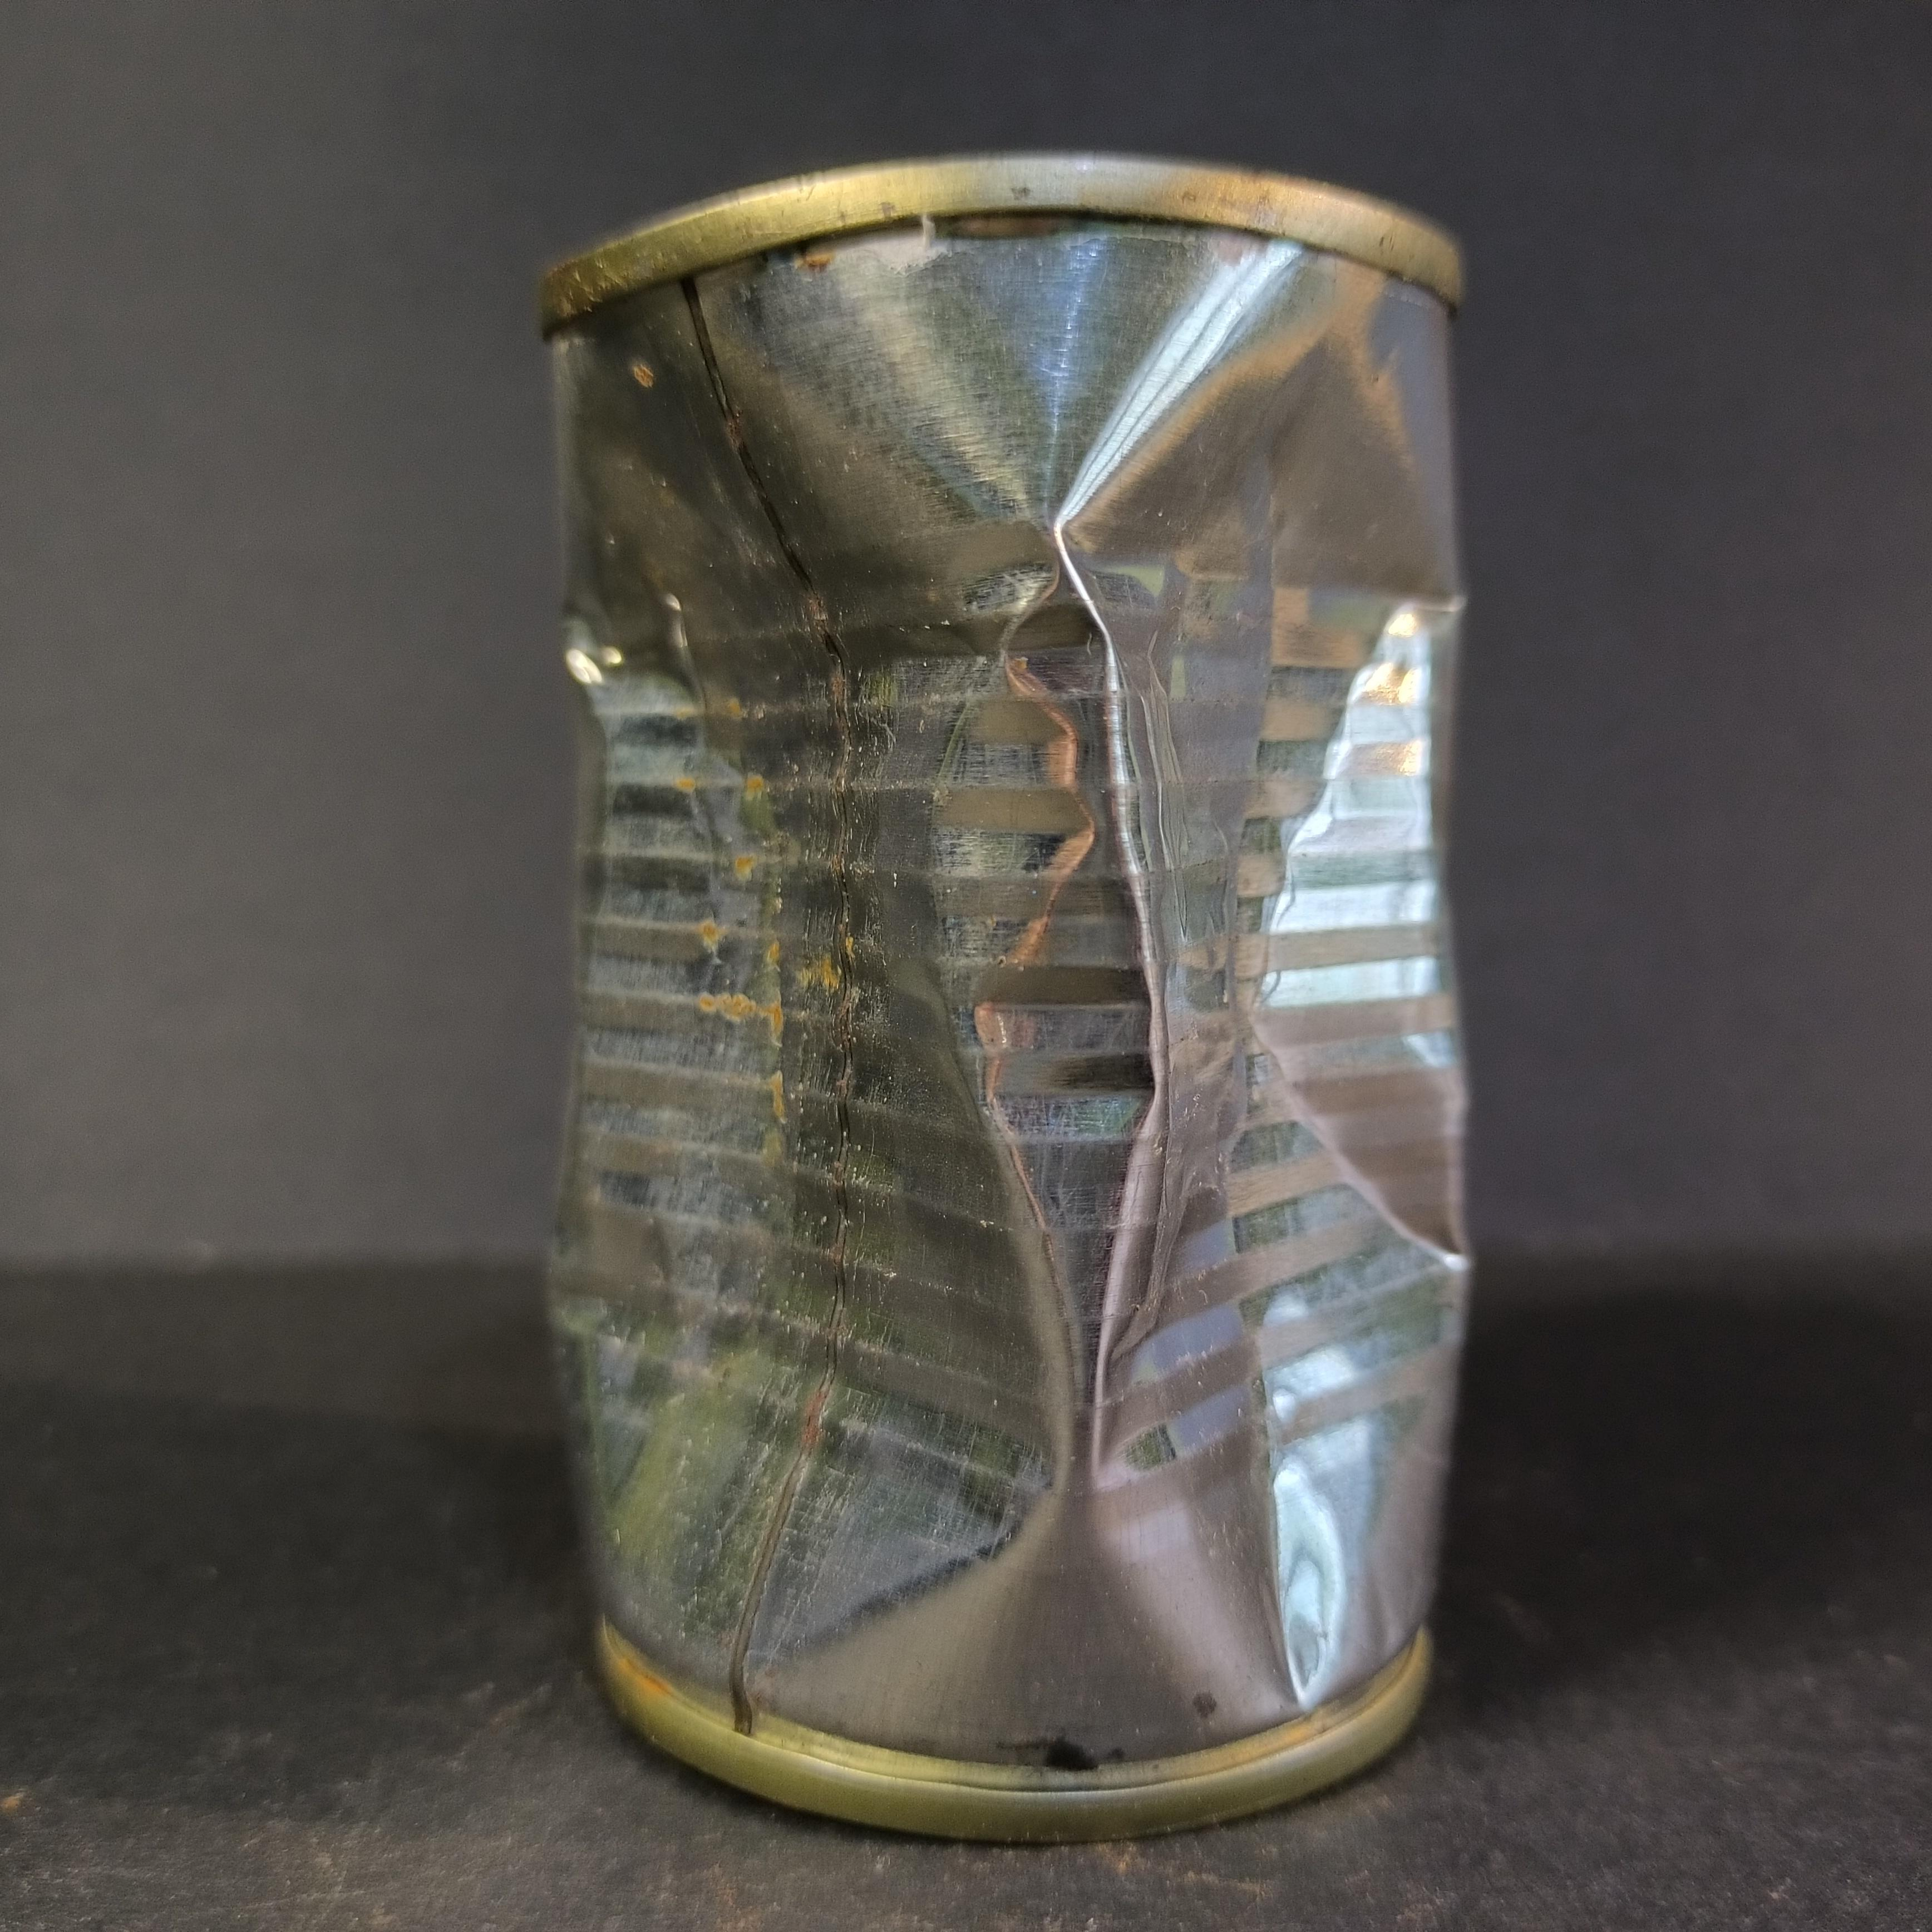Dented: (476, 133, 1522, 1845)
